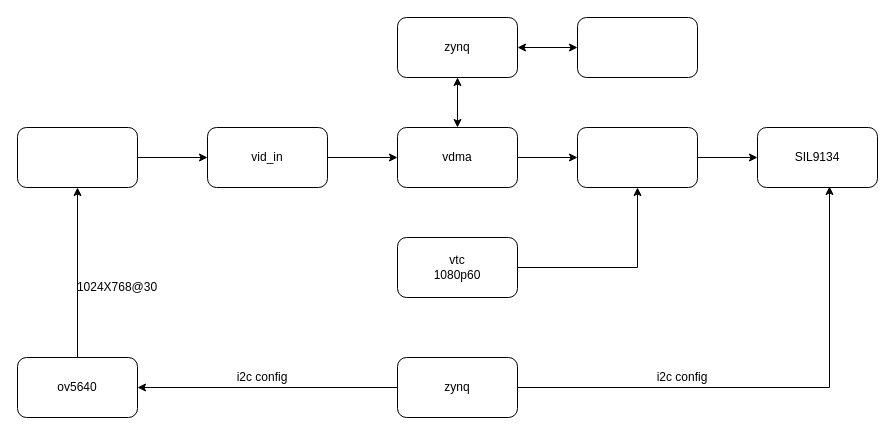
The diagram is 895 pixels wide and 435 high, and some of its shapes have lost their labels. The centre of each missing label's shape, as x and y in pixels:
"DDR3" goes at point 637,47.
"ov5640_if" goes at point 77,157.
"vid_out" goes at point 637,157.
